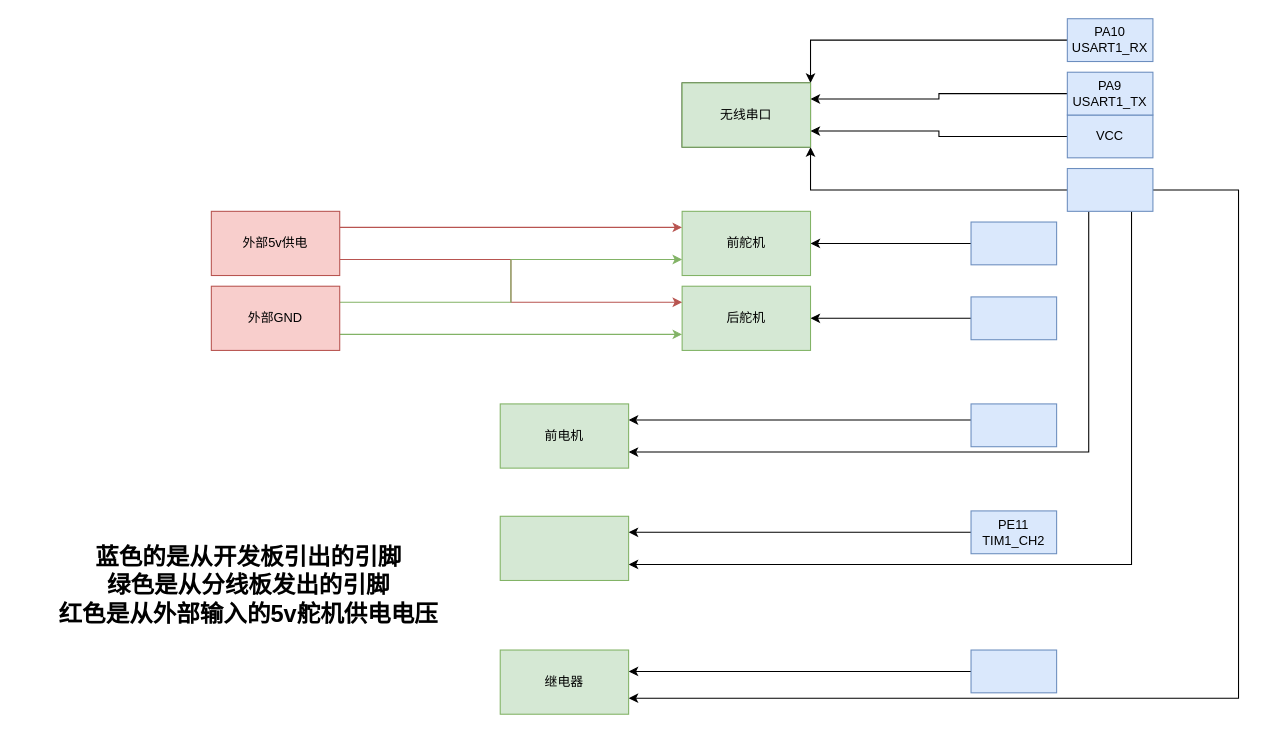
Image size: 1266x733. Some labels were removed from this diagram. Each missing label, with the centre of its shape:
"GND" belongs at [1109,189].
"PC0 SWITCH" belongs at [1013,671].
"PE13 TIM1_CH3" belongs at [1013,243].
"PE14 TIM1_CH4" belongs at [1013,318].
"PE9 TIM1_CH1" belongs at [1013,425].
"后电机" belongs at [564,547].
